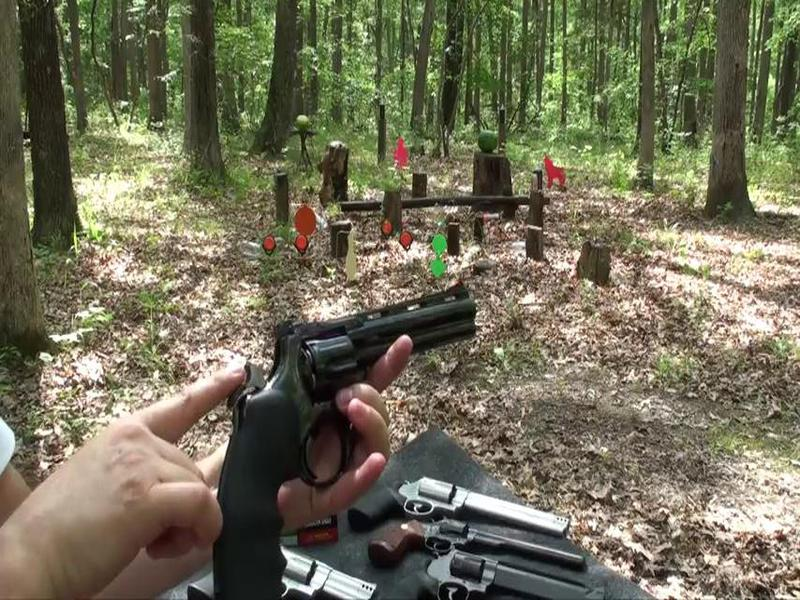Revolver: (203, 279, 497, 588)
